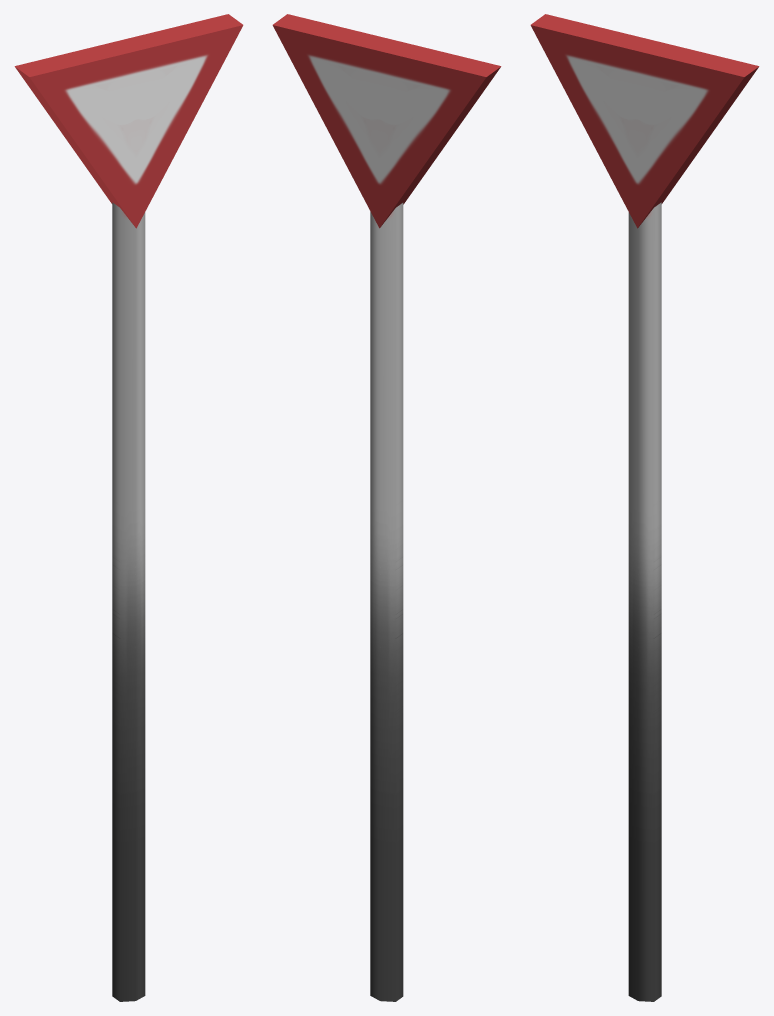
File: Señal.fbx
3 views of the same model, side by side, from view 1: azimuth 30°, elevation 25°; view 2: azimuth 150°, elevation 25°; view 3: azimuth 330°, elevation 25° (orthographic).
Visible parts, largest first — view 1: Señal; view 2: Señal; view 3: Señal.
Part boxes in pixels (x1,y1,x2,y2): Señal: [14, 14, 243, 1001]; Señal: [272, 14, 501, 1001]; Señal: [530, 14, 759, 1001].
Bounding box in the file's own units: 136 × 575 × 16.5.
